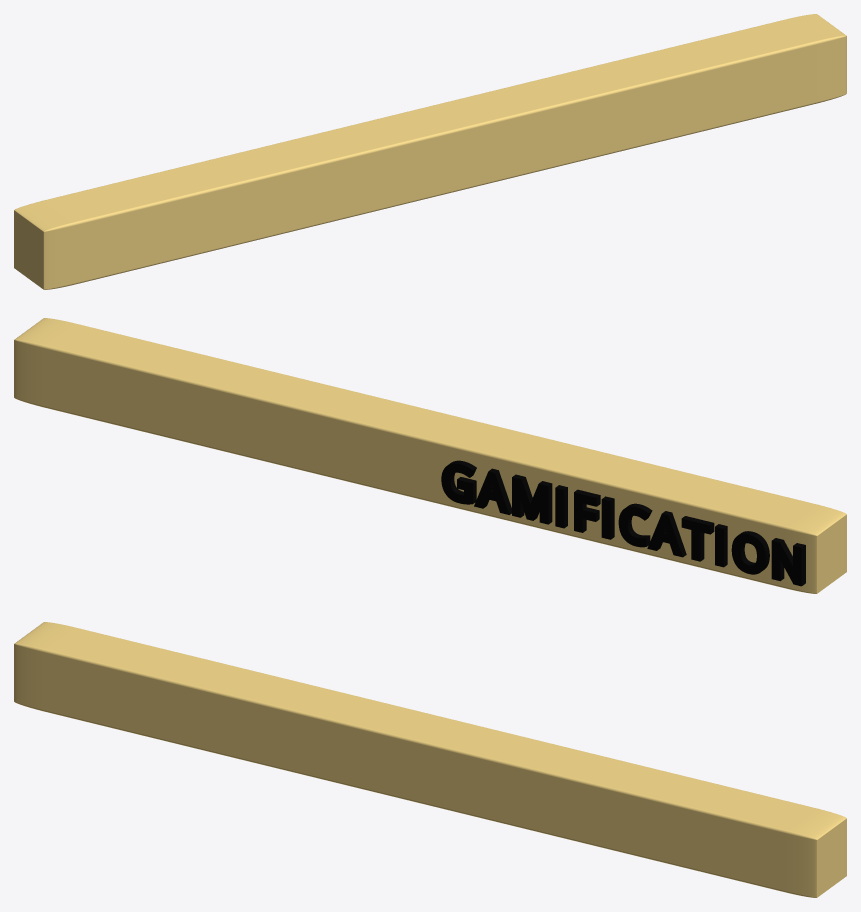
The model's file is gamification.glb.
3 renders of one model, top to bottom at view 1: azimuth 30°, elevation 25°; view 2: azimuth 150°, elevation 25°; view 3: azimuth 330°, elevation 25°, orthographic.
Visible parts, largest first — view 1: Box; view 2: Box, 3D Text - A (×2), 3D Text - I (×3), 3D Text - M, 3D Text - N, 3D Text - G, 3D Text - O, 3D Text - C, 3D Text - F, 3D Text - T; view 3: Box.
Part boxes in pixels (bbox=[...]): Box: bbox=[14, 14, 846, 289]; Box: bbox=[14, 318, 846, 593]; 3D Text - A (×2): bbox=[474, 468, 686, 557]; 3D Text - I (×3): bbox=[555, 485, 727, 567]; 3D Text - M: bbox=[512, 474, 552, 524]; 3D Text - N: bbox=[771, 538, 805, 586]; 3D Text - G: bbox=[441, 460, 476, 504]; 3D Text - O: bbox=[731, 531, 769, 574]; 3D Text - C: bbox=[618, 503, 652, 547]; 3D Text - F: bbox=[574, 489, 600, 532]; 3D Text - T: bbox=[681, 516, 714, 561]; Box: bbox=[14, 622, 846, 897].
Bounding box in the file's own units: 1.45 × 0.1081 × 0.1119.
